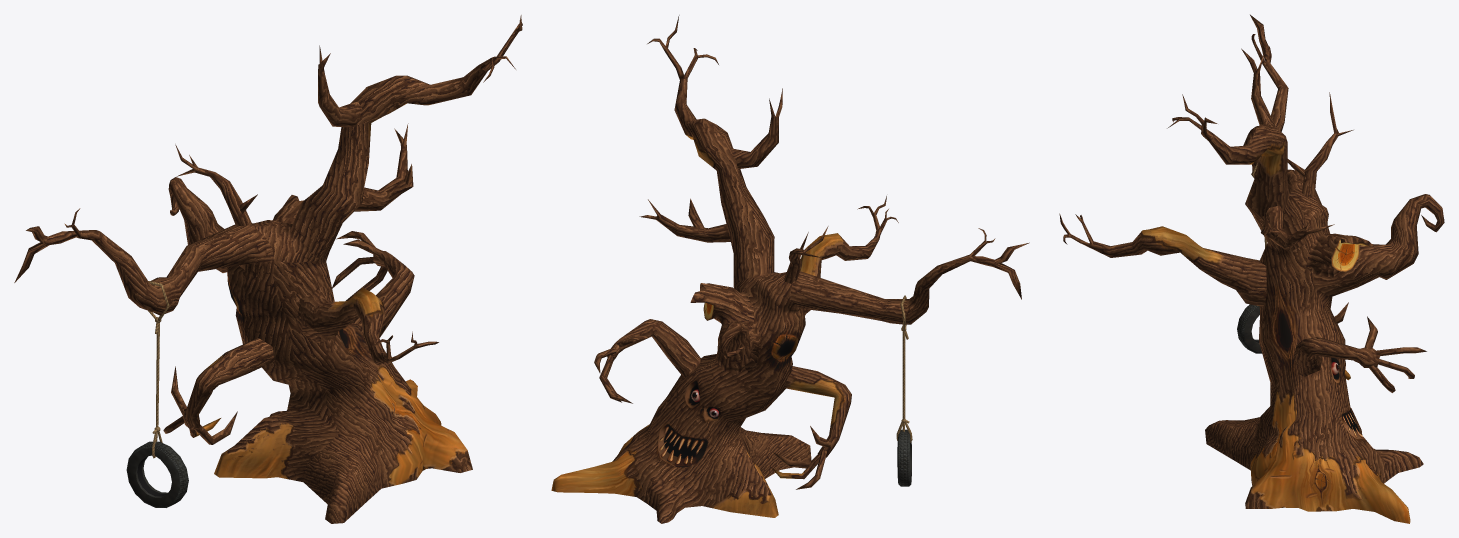
File: ETC0210026.fbx
The picture shows the model from 3 angles, left to right: view 1: azimuth 30°, elevation 25°; view 2: azimuth 150°, elevation 25°; view 3: azimuth 270°, elevation 25°; orthographic projection. The views are drawn at different scales.
Parts seen in each view (by area): view 1: smETC0210026; view 2: smETC0210026; view 3: smETC0210026.
Part boxes in pixels (x1,y1,x2,y2): smETC0210026: (14, 15, 522, 523); smETC0210026: (551, 15, 1029, 523); smETC0210026: (1059, 14, 1444, 523).
Size of the model in its own units: 1089 by 1037 by 860.
Materials: 1 (1 with a texture image).
